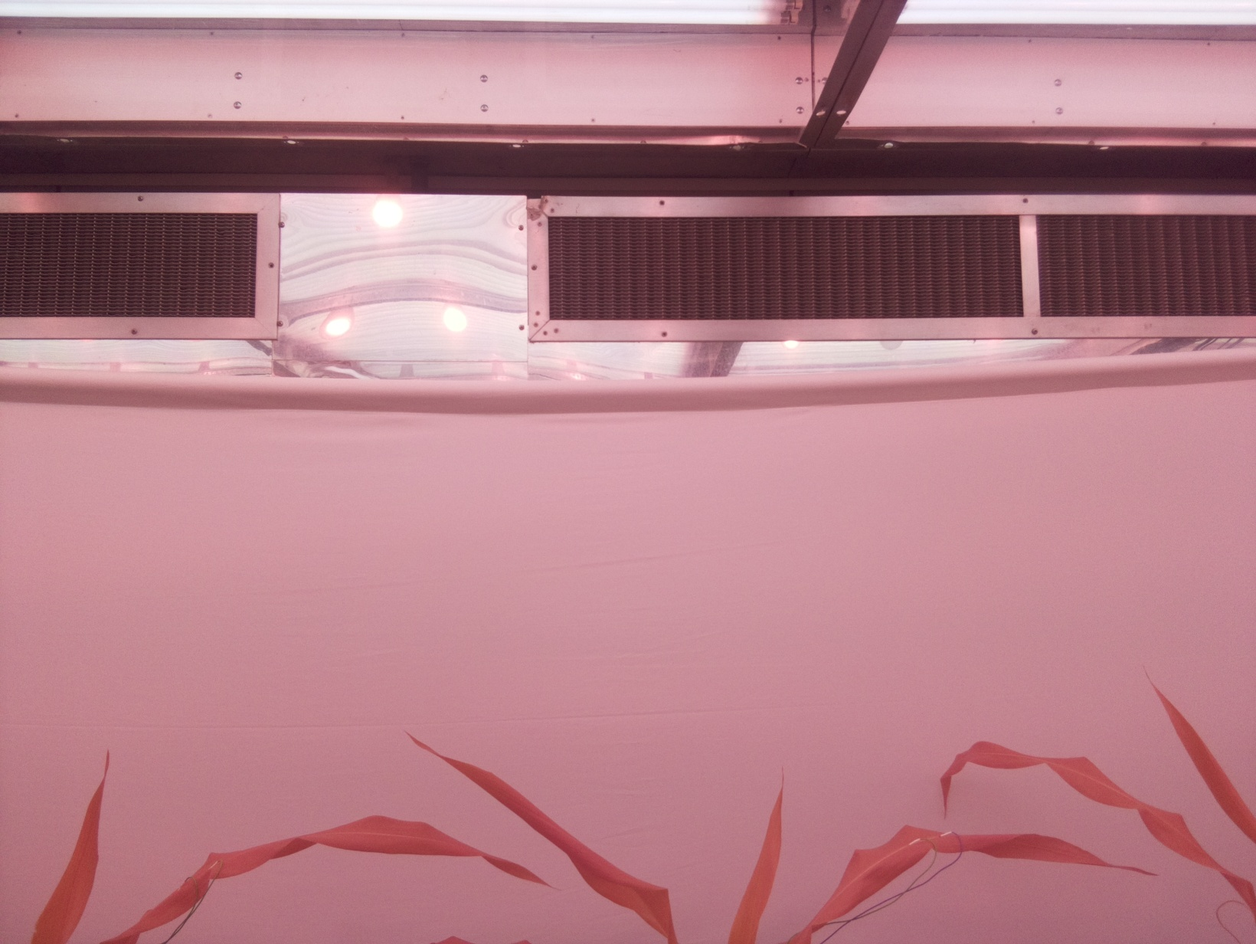maize: (405, 728, 1160, 944), (30, 749, 562, 944), (940, 663, 1256, 944)
